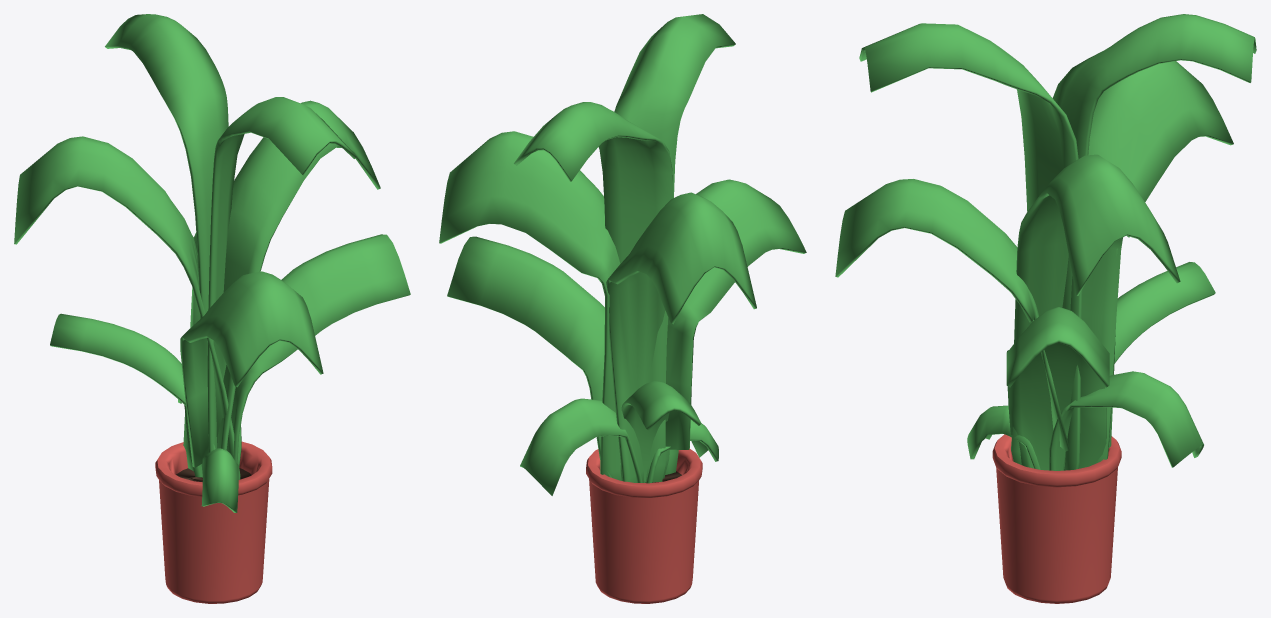
Rendered from plant_big_1.fbx.
3 renders of one model, left to right at view 1: azimuth 30°, elevation 25°; view 2: azimuth 150°, elevation 25°; view 3: azimuth 270°, elevation 25°, orthographic. The views are drawn at different scales.
Parts seen in each view (by area): view 1: mesh_Plant; view 2: mesh_Plant; view 3: mesh_Plant.
Boxes of the visible parts, left/top/right/bottom form: mesh_Plant: left=14, top=14, right=410, bottom=603; mesh_Plant: left=439, top=14, right=806, bottom=603; mesh_Plant: left=835, top=14, right=1256, bottom=603.
Bounding box in the file's own units: 100 × 150 × 100.
